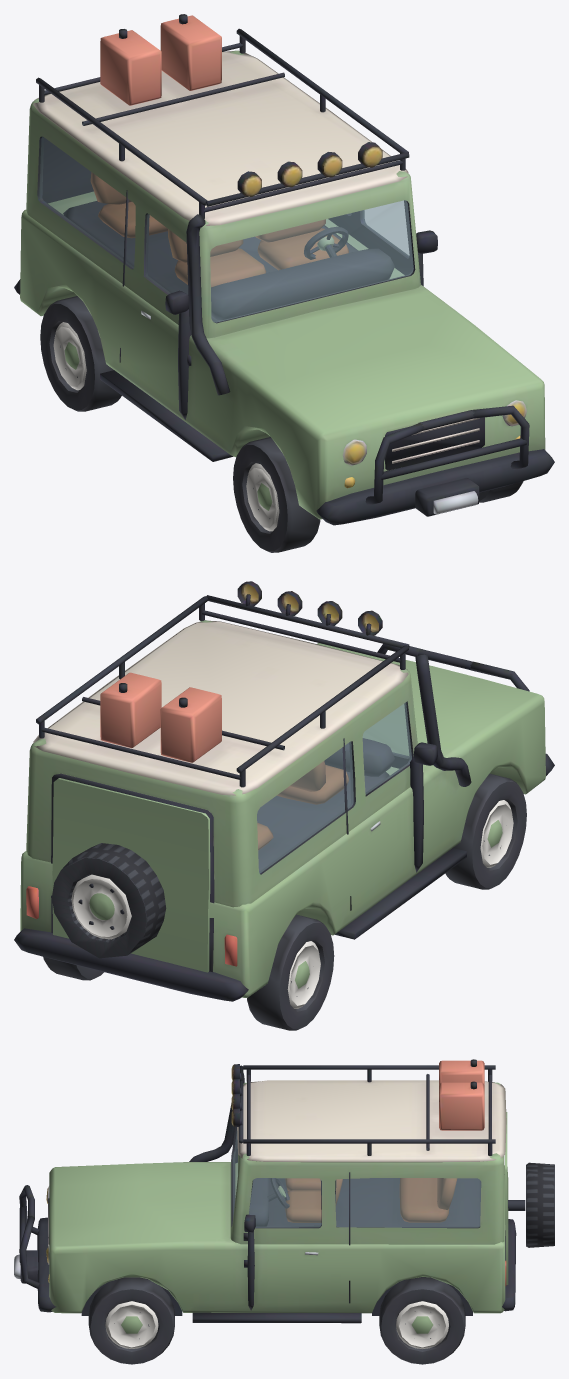
Rendered from n_offroad4.glb.
3 views of the same model, one above another, from view 1: azimuth 30°, elevation 25°; view 2: azimuth 150°, elevation 25°; view 3: azimuth 270°, elevation 25° (orthographic). The views are drawn at different scales.
Visible parts, largest first — view 1: off-road-4x4_body, off-road-4x4_windows, off-road-4x4_wheel_fr, off-road-4x4_wheel_rr; view 2: off-road-4x4_body, off-road-4x4_rear_door, off-road-4x4_windows, off-road-4x4_wheel_rr, off-road-4x4_wheel_fr, off-road-4x4_wheel_rl; view 3: off-road-4x4_body, off-road-4x4_windows, off-road-4x4_wheel_rl, off-road-4x4_wheel_fl, off-road-4x4_rear_door.
Part boxes in pixels (x1,y1,x2,y2): off-road-4x4_body: (14, 14, 554, 525); off-road-4x4_windows: (40, 137, 413, 322); off-road-4x4_wheel_fr: (233, 437, 320, 552); off-road-4x4_wheel_rr: (40, 296, 121, 411); off-road-4x4_body: (14, 581, 554, 1001); off-road-4x4_rear_door: (52, 778, 210, 972); off-road-4x4_windows: (257, 702, 411, 872); off-road-4x4_wheel_rr: (247, 914, 334, 1030); off-road-4x4_wheel_fr: (445, 773, 526, 889); off-road-4x4_wheel_rl: (43, 956, 103, 980); off-road-4x4_body: (14, 1059, 516, 1323); off-road-4x4_windows: (233, 1133, 480, 1227); off-road-4x4_wheel_rl: (379, 1277, 465, 1364); off-road-4x4_wheel_fl: (88, 1277, 174, 1364); off-road-4x4_rear_door: (505, 1112, 554, 1284).
Bounding box in the file's own units: 2.14 × 2.52 × 4.95.
4 materials, 2 textured.
